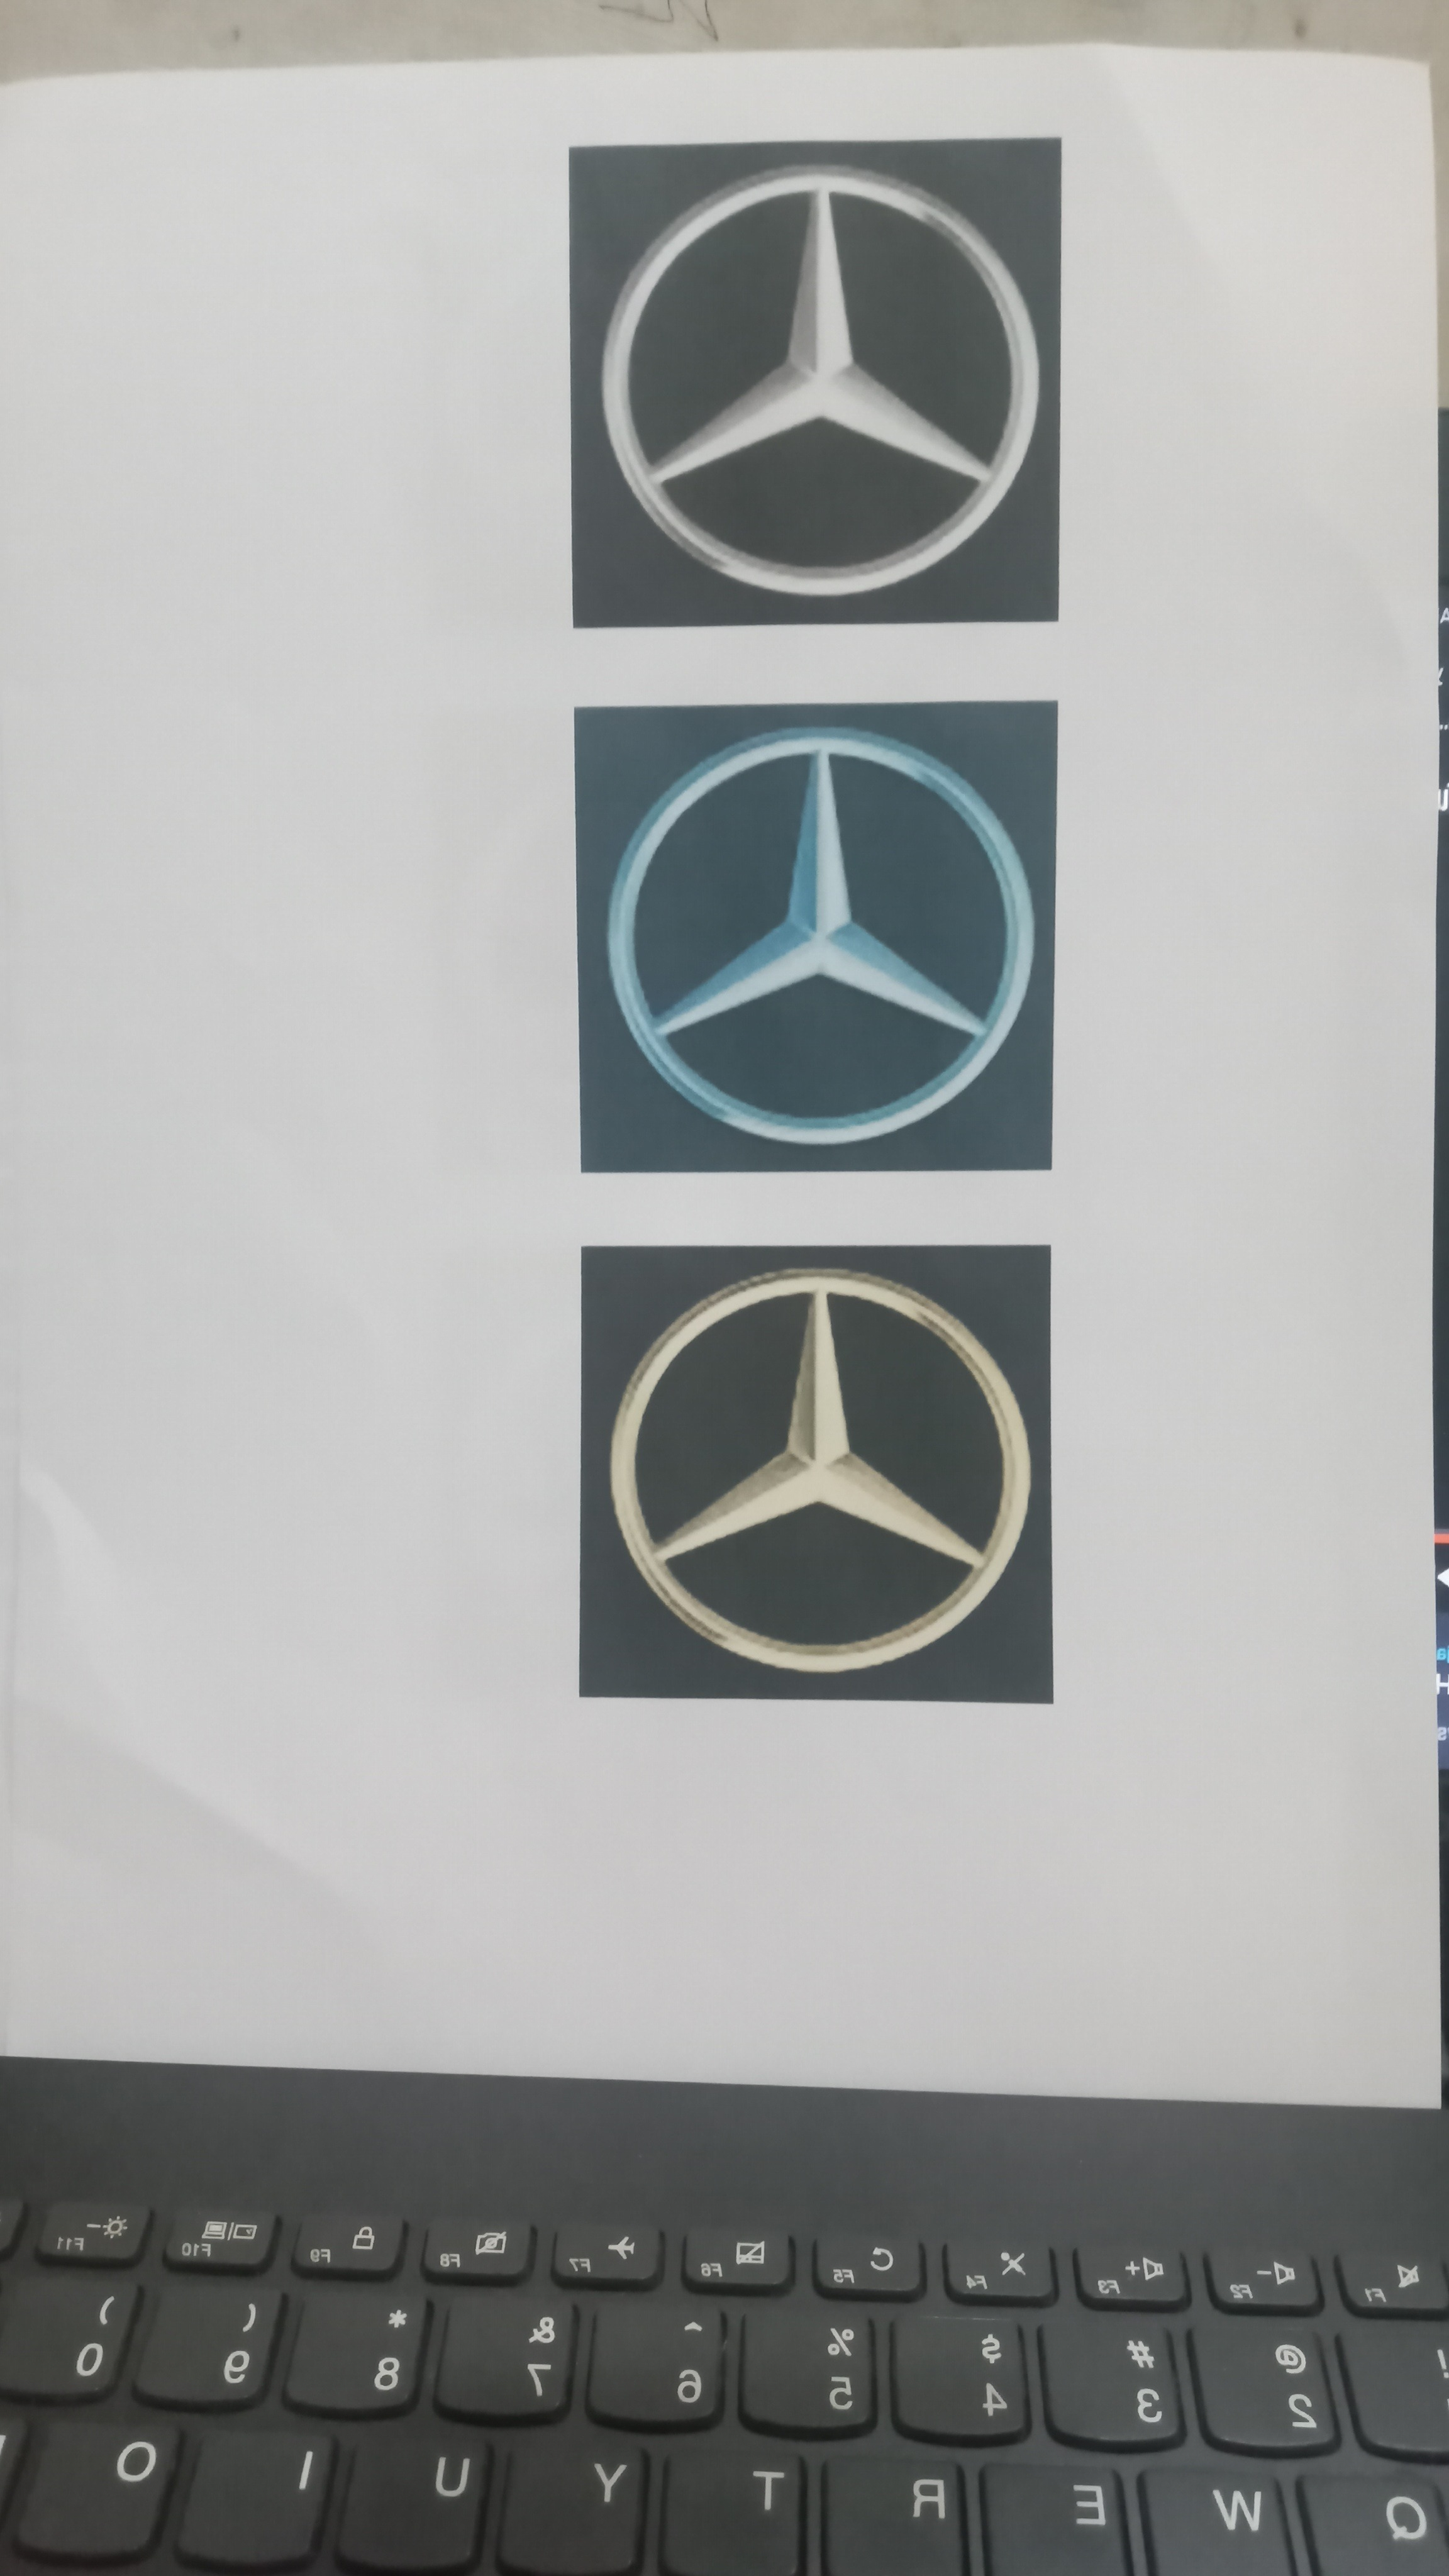Mercedes: (571, 159, 1039, 623), (571, 711, 1035, 1169), (587, 1244, 1049, 1695)
